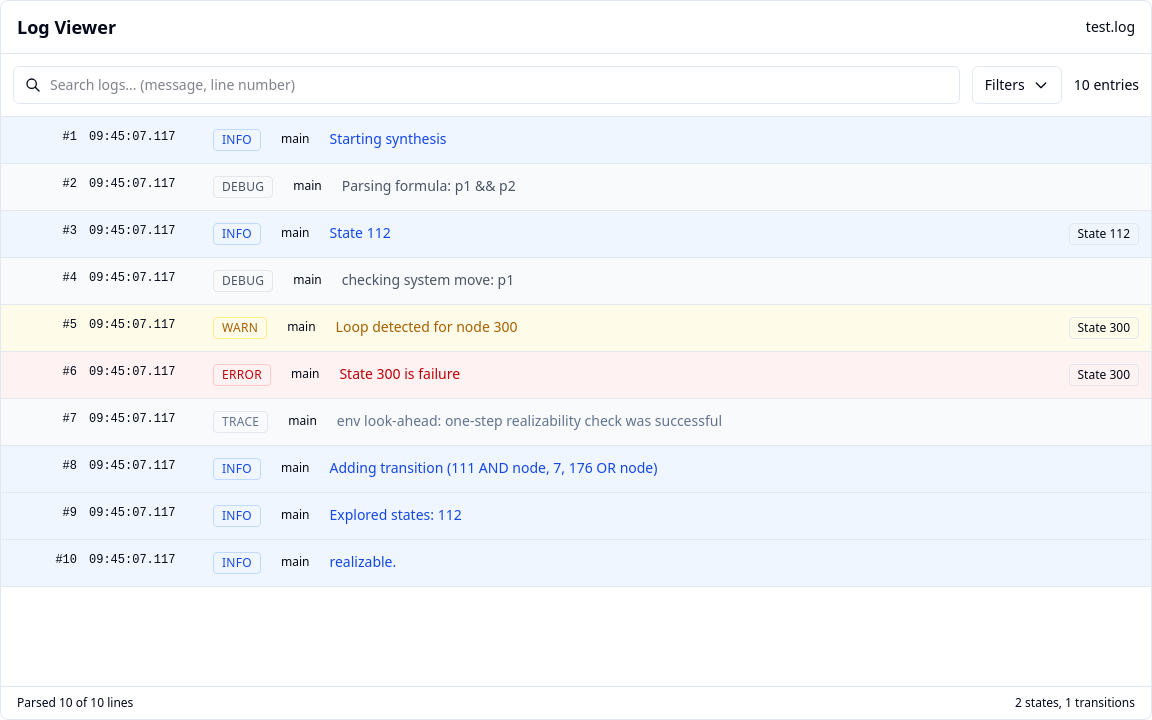
Test: LogViewer › filters entries by log level
# Expand filters
Click the button with aria-label "Toggle advanced filters". click: point(1017, 85)
box: x1=972 y1=66 x2=1062 y2=104
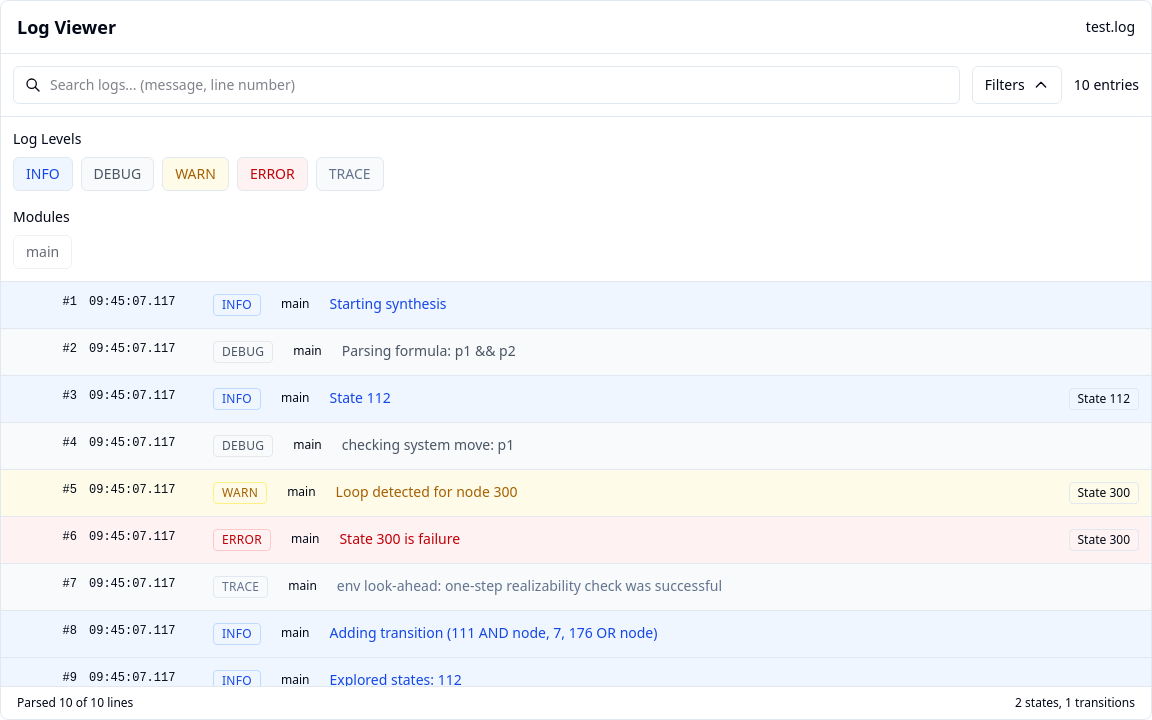
# Uncheck DEBUG level
Click the button "DEBUG". click: point(117, 174)
box: x1=81 y1=157 x2=154 y2=191
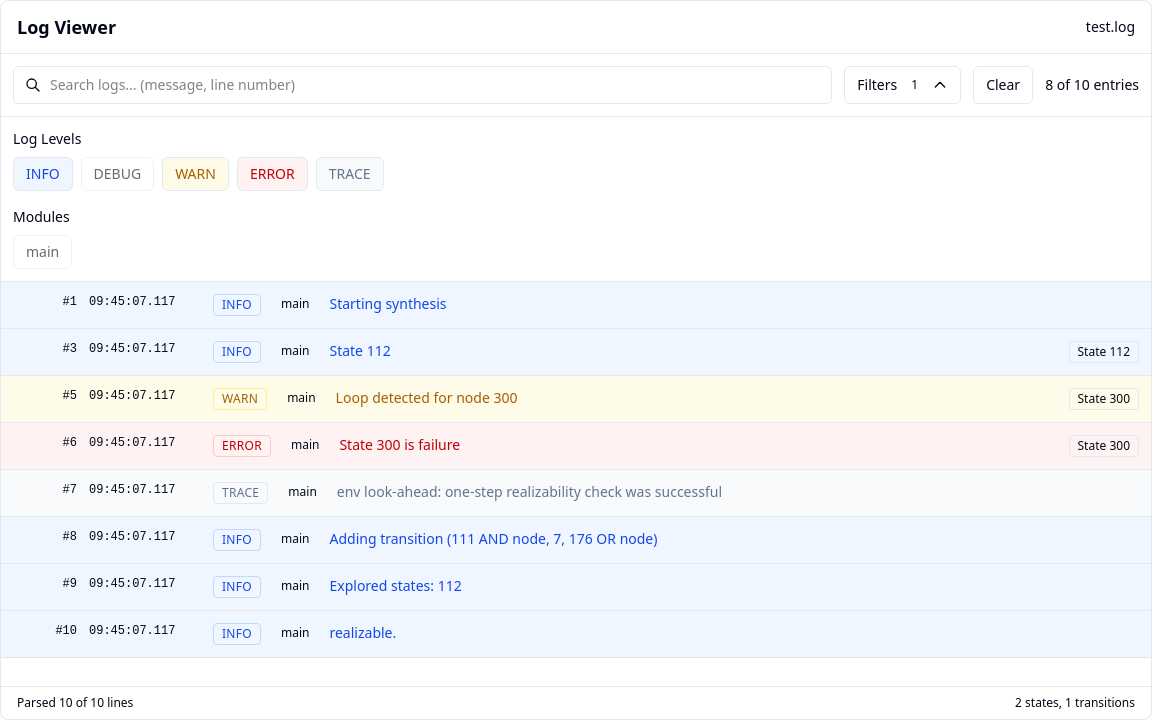
Now the text "8 of 10 entries" is shown, box x1=1045 y1=75 x2=1139 y2=94
